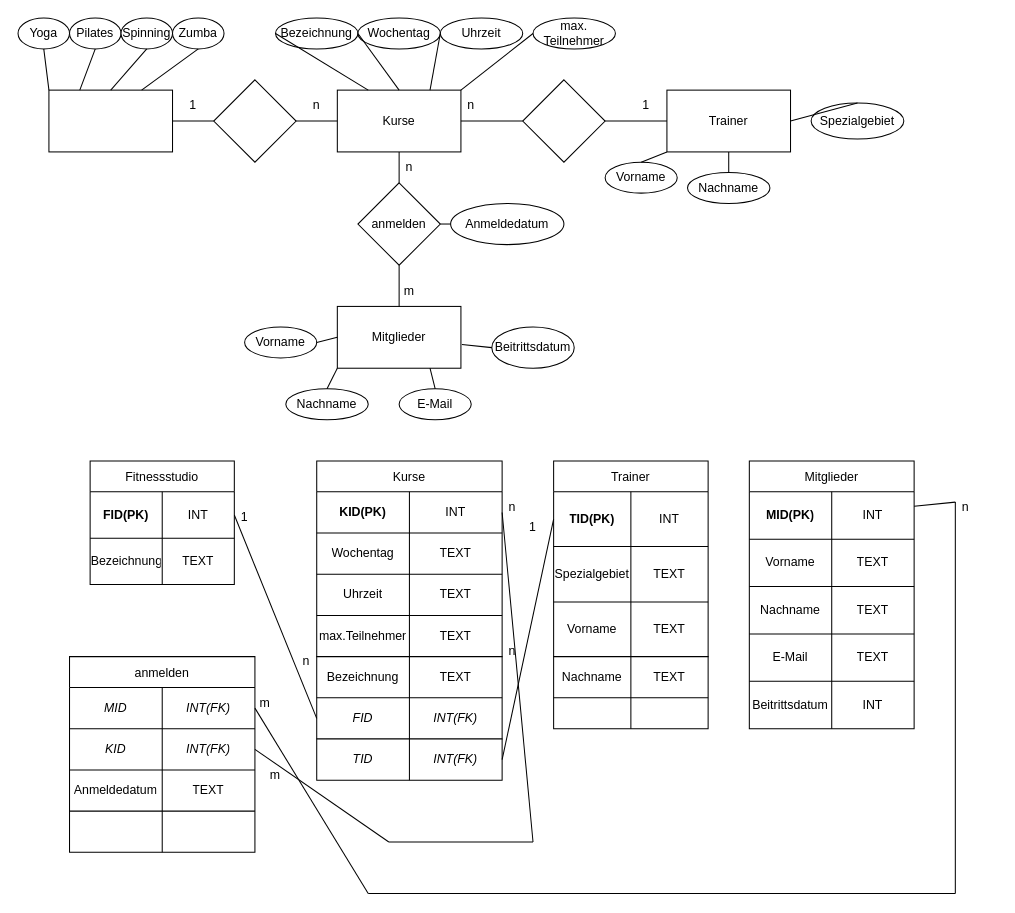
Image size: 1015x913. Some labels were removed from this diagram. The centre of each missing label's shape, as x and y in pixels:
bietet: [254,120]
Fitness: [110,120]
hat: [563,120]
